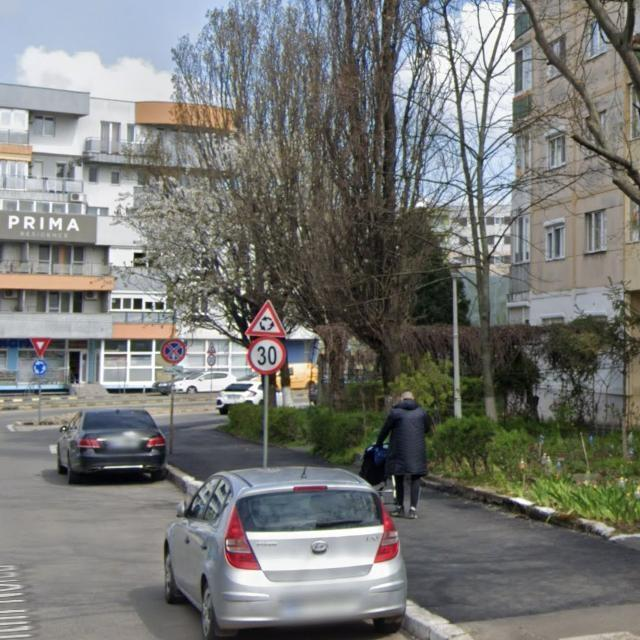forb_speed_over_30: (248, 338, 286, 375)
forb_waiting: (161, 339, 186, 364)
prio_give_way: (29, 338, 51, 358)
